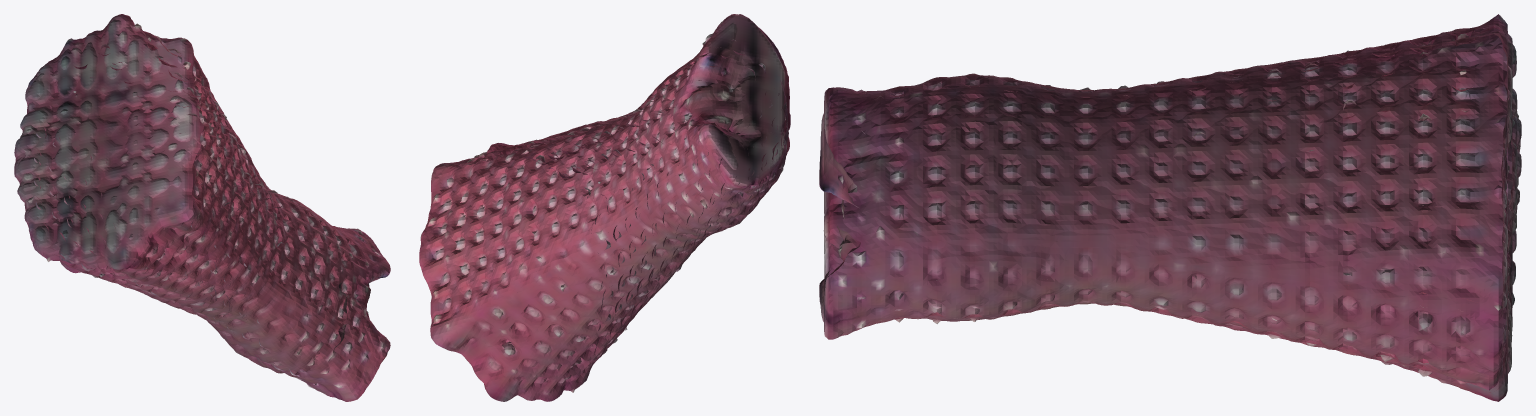
File: triposr_raw__T2_aline_vneck.glb
The picture shows the model from 3 angles, left to right: view 1: azimuth 30°, elevation 25°; view 2: azimuth 150°, elevation 25°; view 3: azimuth 270°, elevation 25°; orthographic projection. The views are drawn at different scales.
Parts seen in each view (by area): view 1: geometry_0; view 2: geometry_0; view 3: geometry_0.
Part boxes in pixels (box(x1,y1,x2,y2)): geometry_0: box(14, 14, 390, 401); geometry_0: box(419, 14, 790, 401); geometry_0: box(819, 14, 1521, 401).
Bounding box in the file's own units: 0.4415 × 0.584 × 1.02.
